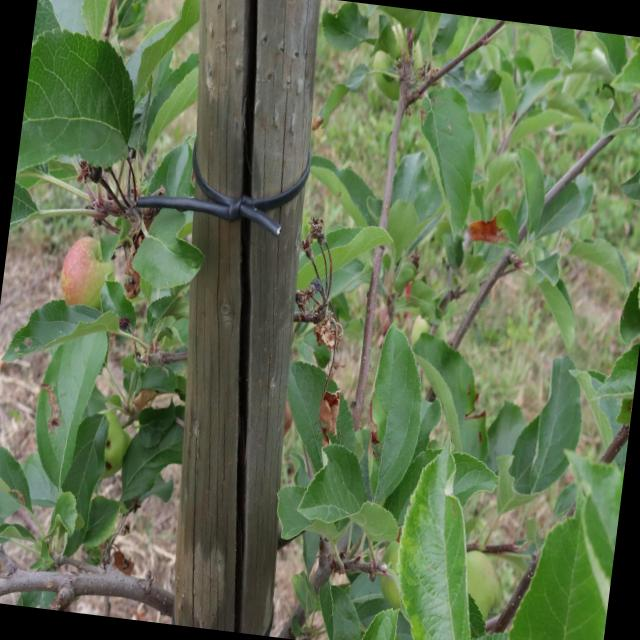-FireBlight-: (95, 180, 152, 309), (306, 326, 356, 434), (469, 223, 527, 253)
